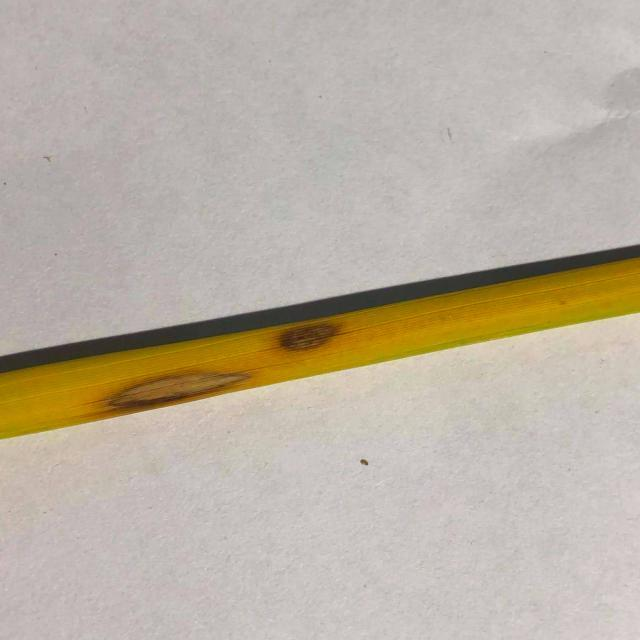Blast: (110, 365, 248, 406), (276, 322, 350, 346)
